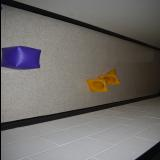cone: (96, 68, 120, 86), (86, 78, 110, 92)
cube: (0, 46, 41, 70)
